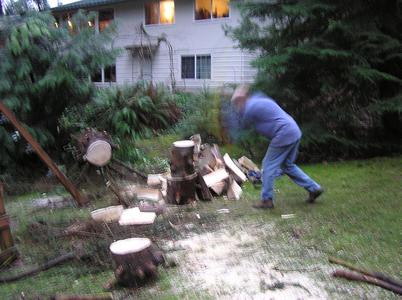person: (218, 85, 325, 208)
